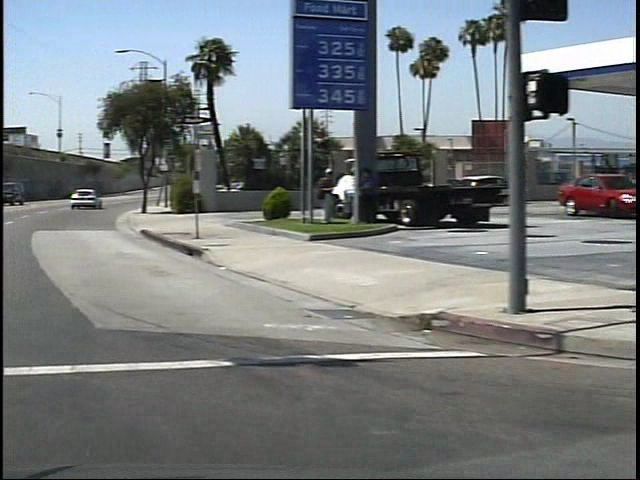person: (306, 162, 331, 226)
